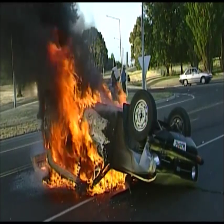fire_h: (40, 29, 110, 182), (89, 169, 127, 195), (103, 81, 126, 108), (42, 171, 76, 189)
fire_l: (41, 157, 53, 170), (43, 134, 50, 149)
